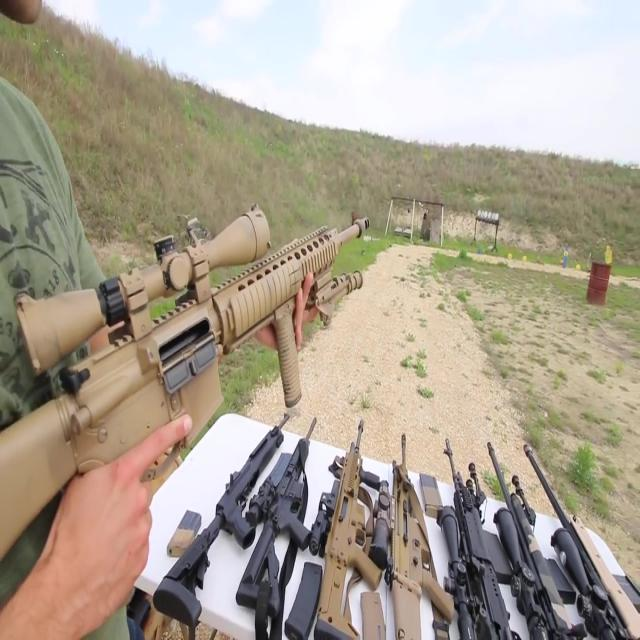Weapon: (86, 371, 640, 640), (0, 190, 387, 534)
